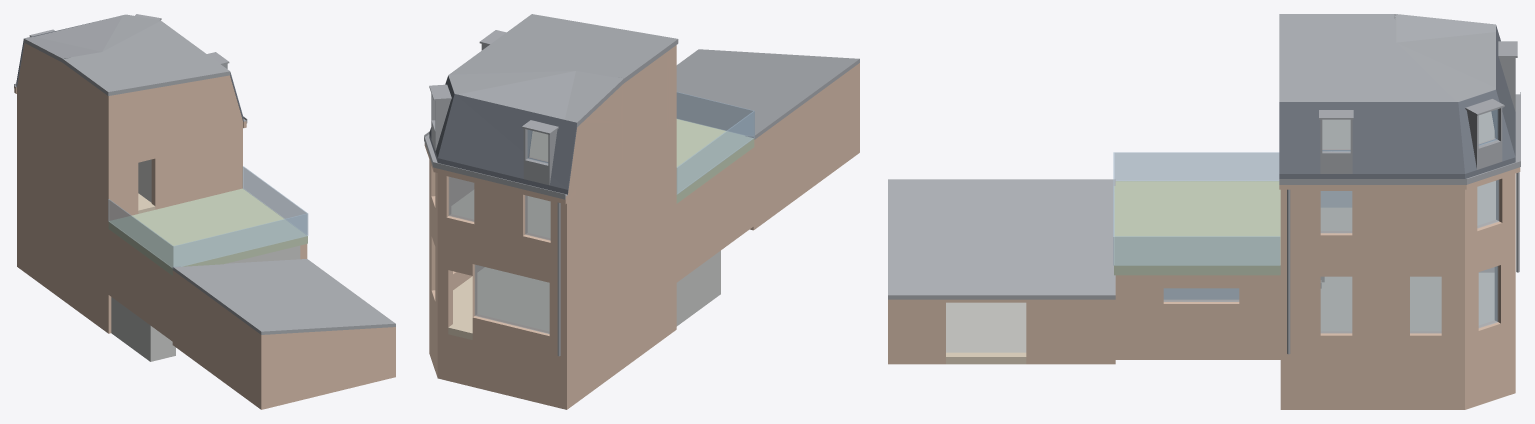
Rendered from maison 11-11.gltf.
3 renders of one model, left to right at view 1: azimuth 30°, elevation 25°; view 2: azimuth 150°, elevation 25°; view 3: azimuth 270°, elevation 25°, orthographic. The views are drawn at different scales.
Visible parts, largest first — view 1: 1-toiture-garage, 1-terrasse-projet, 0I, 2C, 1C, 0H, T-pan-cote-b, 0D, 1-terrasse-projet-garde-corps, 1D, 2D, 0E (+8 smaller); view 2: 1-toiture-garage, 0H, 0D, T-pan-cote-b, 1D, 1A, 2D, T-brisis-cote-a, 0A, 0E, SA, SD (+22 smaller); view 3: 1-toiture-garage, 1-terrasse-projet, 0B, 1B, 0F, T-pan-cote-b, T-brisis-cote-b, 0J, 1-terrasse-projet-garde-corps, SB, 0-garage, 0-salon (+26 smaller).
Part boxes in pixels (left/top/right/bottom): 1-toiture-garage: left=172, top=259, right=395, bottom=334; 1-terrasse-projet: left=108, top=188, right=307, bottom=275; 0I: left=261, top=327, right=395, bottom=409; 2C: left=108, top=75, right=242, bottom=159; 1C: left=108, top=127, right=242, bottom=220; 0H: left=172, top=270, right=261, bottom=409; T-pan-cote-b: left=62, top=21, right=230, bottom=95; 0D: left=17, top=157, right=108, bottom=294; 1-terrasse-projet-garde-corps: left=108, top=166, right=308, bottom=268; 1D: left=17, top=93, right=108, bottom=223; 2D: left=17, top=43, right=108, bottom=159; 0E: left=108, top=229, right=172, bottom=341; 1-toiture-garage: left=676, top=49, right=859, bottom=139; 0H: left=750, top=63, right=859, bottom=230; 0D: left=567, top=198, right=676, bottom=362; T-pan-cote-b: left=449, top=14, right=678, bottom=83; 1D: left=567, top=121, right=676, bottom=277; 1A: left=437, top=173, right=566, bottom=277; 2D: left=568, top=45, right=676, bottom=200; T-brisis-cote-a: left=437, top=94, right=576, bottom=194; 0A: left=437, top=246, right=566, bottom=362; 0E: left=676, top=148, right=753, bottom=282; SA: left=437, top=332, right=566, bottom=409; SD: left=567, top=283, right=676, bottom=409; 1-toiture-garage: left=888, top=179, right=1115, bottom=299; 1-terrasse-projet: left=1114, top=181, right=1280, bottom=275; 0B: left=1280, top=268, right=1464, bottom=359; 1B: left=1280, top=189, right=1464, bottom=268; 0F: left=1115, top=275, right=1280, bottom=359; T-pan-cote-b: left=1279, top=14, right=1456, bottom=101; T-brisis-cote-b: left=1279, top=102, right=1464, bottom=178; 0J: left=888, top=299, right=1115, bottom=364; 1-terrasse-projet-garde-corps: left=1113, top=152, right=1280, bottom=265; SB: left=1280, top=360, right=1464, bottom=409; 0-garage: left=946, top=302, right=1026, bottom=352; 0-salon: left=1321, top=273, right=1494, bottom=330.
Size of what is drawn, in the model's own units: 6.52 by 10.97 by 20.03.
